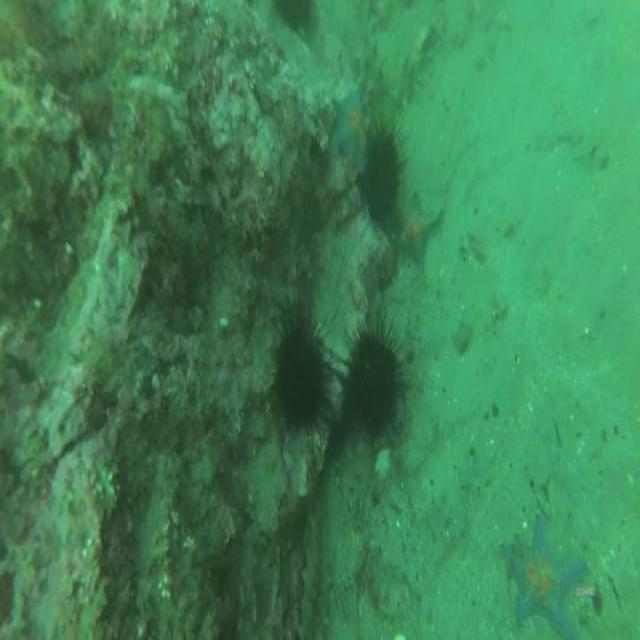echinus: (278, 319, 326, 430), (349, 326, 396, 434), (368, 133, 399, 226)
holothurian: (305, 507, 334, 640)
starfish: (501, 513, 586, 640), (332, 93, 364, 161), (401, 198, 435, 256)
